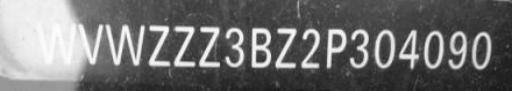letter: (34, 21, 78, 68), (104, 23, 144, 70), (76, 21, 106, 68), (147, 24, 173, 69), (171, 24, 197, 69), (196, 25, 222, 70), (396, 27, 422, 70), (372, 28, 398, 71), (249, 24, 273, 69), (273, 26, 297, 71), (298, 27, 322, 72), (324, 27, 348, 72), (422, 28, 446, 71), (223, 25, 245, 70), (349, 26, 371, 71), (446, 29, 468, 70), (470, 31, 492, 72)
